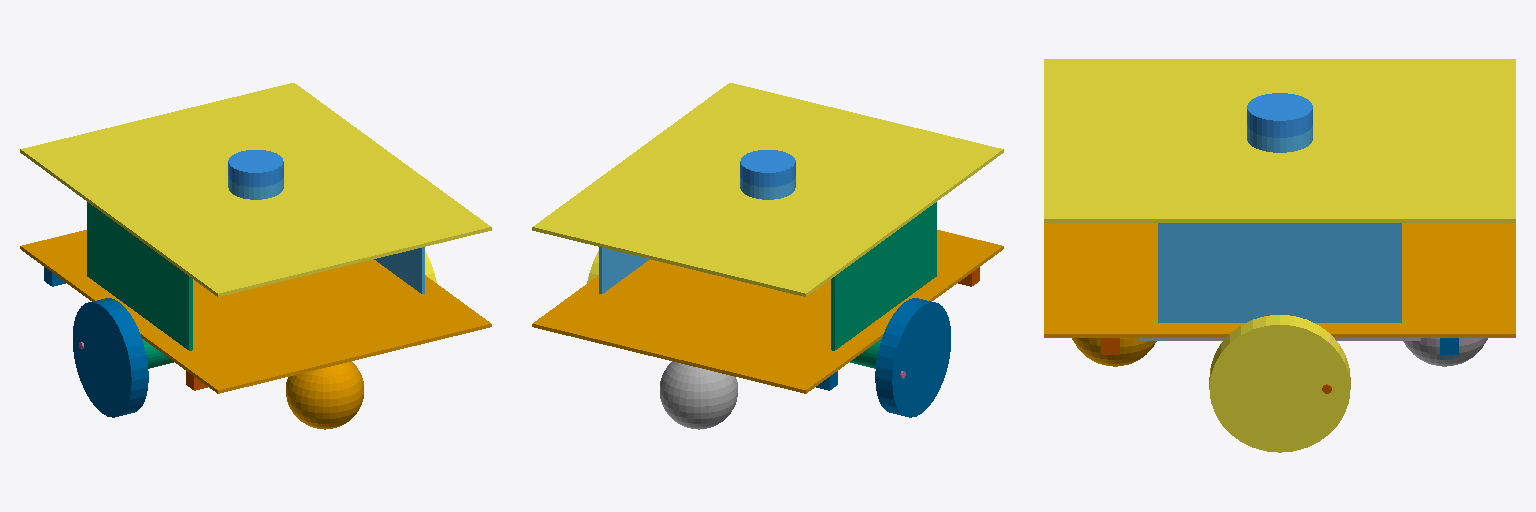
The robot description file, URDF, robot "blind":
<?xml version="1.0"?>
<robot name="blind">

    <link name="base_link">
        <visual>
            <origin xyz="0 0 0" rpy="0 0 0"/>
            <geometry>
                <!--<mesh filename="package://blind_test/model/meshes/plate.STL"/>-->
                <box size="0.4 0.5 0.005"/>
            </geometry>
        </visual>

        <collision>
            <geometry>
                <box size="0.4 0.5 0.005"/>
            </geometry>
        </collision>

    </link>

    <link name="1_side_link">
        <visual>
            <origin xyz="0 0 0" rpy="0 0 0"/>
            <geometry>
                <box size="0.13 0.26 0.005"/>
            </geometry>
        </visual>

        <collision>
            <geometry>
                <box size="0.13 0.26 0.005"/>
            </geometry>
        </collision>

        <inertial>
            <mass value="0.1"/>
            <inertia ixx="0.000704166" ixy="0.0" ixz="0.0" iyy="0.000141041" iyz="0" izz="0.00056354167"/>
        </inertial>

    </link>

    <joint name="1_side_joint" type="fixed">
        <origin xyz="0.17 0 0.0675" rpy="0 1.5708 0"/>
        <parent link="base_link"/>
        <child link="1_side_link"/>
    </joint>

    <link name="2_side_link">
        <visual>
            <origin xyz="0 0 0" rpy="0 0 0"/>
            <geometry>
                <!--<mesh filemname="package://blind_test/mode/meshes/plate_side.STL"/>-->
                <box size="0.13 0.26 0.005"/>
            </geometry>
        </visual>

        <collision>
            <geometry>
                <!--<mesh filemname="package://blind_test/mode/meshes/plate_side.STL"/>-->
                <box size="0.13 0.26 0.005"/>
            </geometry>
        </collision>

        <inertial>
            <mass value="0.1"/>
            <inertia ixx="0.000704166" ixy="0.0" ixz="0.0" iyy="0.000141041" iyz="0" izz="0.00056354167"/>
        </inertial>

    </link>

    <joint name="2_side_joint" type="fixed">
        <origin xyz="-0.17 0 0.0675" rpy="0 1.5708 0"/>
        <parent link="base_link"/>
        <child link="2_side_link"/>
    </joint>


    <link name="top_link">
        <visual>
            <origin xyz="0 0 0" rpy="0 0 0"/>
            <geometry>
                <box size="0.4 0.5 0.005"/>
            </geometry>
        </visual>

        <collision>
            <geometry>
                <box size="0.4 0.5 0.005"/>
            </geometry>
        </collision>

        <inertial>
            <mass value="0.4"/>
            <inertia ixx="0.013666667" ixy="0.0" ixz="0.0" iyy="0.05334166" iyz="0" izz="0.08334167"/>
        </inertial>

    </link>

    <joint name="top_joint" type="fixed">
        <origin xyz="0 0 0.135" rpy="0 0 0"/>
        <parent link="base_link"/>
        <child link="top_link"/>
    </joint>

    <link name="1_alu_40_link">
        <visual>
            <origin xyz="0 0 0" rpy="0 0 0"/>
            <geometry>
                <box size="0.4 0.02 0.02"/>
            </geometry>
        </visual>

        <collision>
            <geometry>
                <box size="0.4 0.02 0.02"/>
            </geometry>
        </collision>
        
        <inertial>
            <mass value="0.4"/>
            <inertia ixx="0.000031669" ixy="0.0" ixz="0.0" iyy="0.005349168" iyz="0" izz="0.005349168"/>
        </inertial>

    </link>

    <joint name="1_alu_40_joint" type="fixed">
        <origin xyz="0 0.18 -0.0125" rpy="0 0 0"/>
        <parent link="base_link"/>
        <child link="1_alu_40_link"/>
    </joint>

    <link name="2_alu_40_link">
        <visual>
            <origin xyz="0 0 0" rpy="0 0 0"/>
            <geometry>
                <box size="0.4 0.02 0.02"/>
            </geometry>
        </visual>

        <collision>
            <geometry>
                <box size="0.4 0.02 0.02"/>
            </geometry>
        </collision>

        <inertial>
            <mass value="0.4"/>
            <inertia ixx="0.000031669" ixy="0.0" ixz="0.0" iyy="0.005349168" iyz="0" izz="0.005349168"/>
        </inertial>

    </link>

    <joint name="2_alu_40_joint" type="fixed">
        <origin xyz="0 -0.18 -0.0125" rpy="0 0 0"/>
        <parent link="base_link"/>
        <child link="2_alu_40_link"/>
    </joint>

    <link name="alu_30_link">
        <visual>
            <origin xyz="0 0 0" rpy="0 0 0"/>
            <geometry>
                <box size="0.3 0.02 0.02"/>
            </geometry>
        </visual>

        <collision>
            <geometry>
                <box size="0.3 0.02 0.02"/>
            </geometry>
        </collision>

        <inertial>
            <mass value="0.28"/>
            <inertia ixx="0.0000022168" ixy="0.0" ixz="0.0" iyy="0.002111084" iyz="0" izz="0.002111084"/>
        </inertial>

    </link>

    <joint name="alu_30_joint" type="fixed">
        <origin xyz="0 0 -0.0125" rpy="0 0 0"/>
        <parent link="base_link"/>
        <child link="alu_30_link"/>
    </joint>

    <link name="1_alu_32_link">
        <visual>
            <origin xyz="0 0 0" rpy="0 0 0"/>
            <geometry>
                <box size="0.3 0.02 0.02"/>
            </geometry>
        </visual>

        <collision>
            <geometry>
                <box size="0.3 0.02 0.02"/>
            </geometry>
        </collision>

        <inertial>
            <mass value="0.3"/>
            <inertia ixx="0.000023752" ixy="0.0" ixz="0.0" iyy="0.002571876" iyz="0" izz="0.002571876"/>
        </inertial>

    </link>

    <joint name="1_alu_32_joint" type="fixed">
        <origin xyz="0.155 0 -0.0125" rpy="0 0 1.5708"/>
        <parent link="base_link"/>
        <child link="1_alu_32_link"/>
    </joint>

    <link name="2_alu_32_link">
        <visual>
            <origin xyz="0 0 0" rpy="0 0 0"/>
            <geometry>
                <box size="0.3 0.02 0.02"/>
            </geometry>
        </visual>

        <collision>
            <geometry>
                <box size="0.3 0.02 0.02"/>
            </geometry>
        </collision>

        <inertial>
            <mass value="0.3"/>
            <inertia ixx="0.000023752" ixy="0.0" ixz="0.0" iyy="0.002571876" iyz="0" izz="0.002571876"/>
        </inertial>

    </link>

    <joint name="2_alu_32_joint" type="fixed">
        <origin xyz="-0.155 0 -0.0125" rpy="0 0 1.5708"/>
        <parent link="base_link"/>
        <child link="2_alu_32_link"/>
    </joint>

    <link name="1_motor_link">
        <visual>
            <origin xyz="0 0 0" rpy="0 0 0"/>
            <geometry>
                <cylinder radius="0.025" length="0.13"/>
            </geometry>
        </visual>

        <collision>
            <geometry>
                <cylinder radius="0.025" length="0.13"/>
            </geometry>
        </collision>

        <inertial>
            <mass value="0.3"/>
            <inertia ixx="0.000144192" ixy="0.0" ixz="0.0" iyy="0.000972109" iyz="0" izz="0.000972109"/>
        </inertial>

    </link>

    <joint name="1_motor_joint" type="fixed">
        <origin xyz="0.125 0 -0.0375" rpy="0 1.5708 0"/>
        <parent link="alu_30_link"/>
        <child link="1_motor_link"/>
    </joint>

    <link name="2_motor_link">
        <visual>
            <origin xyz="0 0 0" rpy="0 0 0"/>
            <geometry>
                <!--<mesh filename="package://blind_test/mode/meshes/motor.STL"/>-->
                <cylinder radius="0.025" length="0.13"/>
            </geometry>
        </visual>

        <collision>
            <geometry>
                <!--<mesh filename="package://blind_test/mode/meshes/motor.STL"/>-->
                <cylinder radius="0.025" length="0.13"/>
            </geometry>
        </collision>

        <inertial>
            <mass value="0.3"/>
            <inertia ixx="0.000144192" ixy="0.0" ixz="0.0" iyy="0.000972109" iyz="0" izz="0.000972109"/>
        </inertial>

    </link>

    <joint name="2_motor_joint" type="fixed">
        <origin xyz="-0.125 0 -0.0375" rpy="0 1.5708 0"/>
        <parent link="alu_30_link"/>
        <child link="2_motor_link"/>
    </joint>

    <link name="1_wheel_link">
        <visual>
            <origin xyz="0 0 0" rpy="0 0 0"/>
            <geometry>
                <!--<mesh filename="package://blind_test/mode/meshes/motor.STL"/>-->
                <cylinder radius="0.075" length="0.025"/>
            </geometry>
        </visual>

        <collision>
            <geometry>
                <!--<mesh filename="package://blind_test/mode/meshes/motor.STL"/>-->
                <cylinder radius="0.075" length="0.025"/>
            </geometry>
        </collision>

        <inertial>
            <mass value="0.05"/>
            <inertia ixx="0.000062765" ixy="-2.97" ixz="0.0" iyy="0.000119581" iyz="-2.97" izz="0.000062765"/>
        </inertial>

    </link>

    <joint name="1_wheel_joint" type="continuous">
        <origin xyz="0.2125 0 -0.05" rpy="0 1.5708 0"/>
        <parent link="base_link"/>
        <child link="1_wheel_link"/>
        <axis xyz="0 0 1" rpy="0 0 0"/>
        <limit effort="0.2" velocity="0.05"/>
    </joint>

    <link name="2_wheel_link">
        <visual>
            <origin xyz="0 0 0" rpy="0 0 0"/>
            <geometry>
                <cylinder radius="0.075" length="0.025"/>
            </geometry>
        </visual>

        <collision>
            <geometry>
                <cylinder radius="0.075" length="0.025"/>
            </geometry>
        </collision>

        <inertial>
            <mass value="0.05"/>
            <inertia ixx="0.000062765" ixy="-2.97" ixz="0.0" iyy="0.000119581" iyz="-2.97" izz="0.000062765"/>
        </inertial>

    </link>

    <joint name="2_wheel_joint" type="continuous">
        <origin xyz="-0.2125 0 -0.05" rpy="0 1.5708 0"/>
        <parent link="base_link"/>
        <child link="2_wheel_link"/>
        <axis xyz="0 0 1" rpy="0 0 0"/>
        <limit effort="0.2" velocity="0.05"/>
    </joint>

    <link name="bra1_link">
        <visual>
            <origin xyz="0 0 0" rpy="0 0 0"/>
            <geometry>
                <cylinder radius="0.005" length="0.03"/>
            </geometry>
        </visual>
    </link>

    <joint name="bra1_joint" type="fixed">>
        <origin xyz="0 0.05 0" rpy="0 0 0"/>
        <parent link="1_wheel_link"/>
        <child link="bra1_link"/>
    </joint>

    <link name="bra2_link">
        <visual>
            <origin xyz="0 0 0" rpy="0 0 0"/>
            <geometry>
                <cylinder radius="0.005" length="0.03"/>
            </geometry>
        </visual>
    </link>

    <joint name="bra2_joint" type="fixed">>
        <origin xyz="0 0.05 0" rpy="0 0 0"/>
        <parent link="2_wheel_link"/>
        <child link="bra2_link"/>
    </joint>

    <link name="1_ball_link">
        <visual>
            <origin xyz="0 0 0" rpy="0 0 0"/>
            <geometry>
                <sphere radius="0.05"/>
            </geometry>
        </visual>

        <collision>
            <geometry>
                <sphere radius="0.05"/>
            </geometry>
        </collision>

    </link>

    <joint name="1_ball_joint" type="fixed">
        <origin xyz="0 0.175 -0.074" rpy="0 0 0"/>
        <parent link="base_link"/>
        <child link="1_ball_link"/>
    </joint>

    <link name="2_ball_link">
        <visual>
            <origin xyz="0 0 0" rpy="0 0 0"/>
            <geometry>
                <sphere radius="0.05"/>
            </geometry>
        </visual>

        <collision>
            <geometry>
                <sphere radius="0.05"/>
            </geometry>
        </collision>

    </link>

    <joint name="2_ball_joint" type="fixed">
        <origin xyz="0 -0.175 -0.074" rpy="0 0 0"/>
        <parent link="base_link"/>
        <child link="2_ball_link"/>
    </joint>

    <link name = "lidarbase_link">
        <visual>
            <origin xyz = "0 0 0" rpy = "0 0 0"/>
            <geometry>
                <cylinder radius = "0.035" length = "0.02"/>
            </geometry>
            <material name="grey">
        
            </material>
        </visual>

        <inertial>
            <mass value="0.1"/>
            <inertia ixx="0.000114" ixy="0.0" ixz="0.0" iyy="0.000114" iyz="0" izz="0.000145"/>
        </inertial>


        <collision>
            <origin xyz = "0 0 0" rpy = "0 0 0"/>
            <geometry>
                <cylinder radius = "0.035" length = "0.02"/>
            </geometry>
        </collision>
    </link>

    <joint name = "lidarbase_joint" type = "fixed">
        <origin xyz = "0 0 0.145" rpy = "0 0 0"/> 
        <parent link = "base_link"/>
        <child link = "lidarbase_link"/>
        <limit effort = "0" velocity="0"/>
        <axis rpy="0 0 0" xyz = "0 0 0"/>
    </joint>

    <link name = "lidar_link">
        <visual>
            <origin xyz = "0 0 0" rpy = "0 0 0"/>
            <geometry>
                <cylinder radius = "0.035" length = "0.02"/>
            </geometry>
            <material name = "blue2">
                <color rgba = "0.239 0.604 0.917 1"/>
            </material>
        </visual>

        <inertial>
            <mass value="0.1"/>
            <inertia ixx="0.000045" ixy="0.0" ixz="0.0" iyy="0.000045" iyz="0" izz="0.000078"/>
        </inertial>

        <collision>
            <origin xyz = "0 0 0" rpy = "0 0 0"/>
            <geometry>
                <cylinder radius = "0.035" length = "0.02"/>
            </geometry>
        </collision>
    </link>

    <joint name = "lidar_joint" type = "continuous">
        <origin xyz = "0 0 0.02" rpy = "0 0 0"/> 
        <parent link = "lidarbase_link"/>
        <child link = "lidar_link"/>
        <axis rpy="0 0 0" xyz = "0 0 1"/>
    </joint>

<!--*************************************** Gazebo **********************************************-->

    <gazebo reference="1_wheel_link">  
        <material>Gazebo/Grey</material>

        <mu1 value ="0.2"/>
        <mu2 value = "0.1"/>

        <kp value = "80000" />
        <kd value = "50"/>
    </gazebo>

    <gazebo reference="2_wheel_link">  
        <material>Gazebo/Grey</material>
        
        <mu1 value ="0.2"/>
        <mu2 value = "0.1"/>

        <kp value = "80000" />
        <kd value = "50"/>
    </gazebo>

    <gazebo reference="1_ball_link">
        <material>Gazebo/Blue</material>

        <mu1 value="0"/>
        <mu2 value="0"/>

        <kp value = "600" />
        <kd value = "550"/>
    </gazebo>

    <gazebo reference="2_ball_link">
        <material>Gazebo/Blue</material>

        <mu1 value="0"/>
        <mu2 value="0"/>

        <kp value="600"/>
        <kd value="550"/>
    </gazebo>

    <gazebo>
    <plugin filename="libgazebo_ros_diff_drive.so" name="differential_drive_controller">
        <alwaysOn>true</alwaysOn>
        <updateRate>20</updateRate>
        <leftJoint>1_wheel_joint</leftJoint>
        <rightJoint>2_wheel_joint</rightJoint>
        <wheelSeparation>0.9</wheelSeparation>
        <wheelDiameter>0.3</wheelDiameter>
        <torque>10</torque>
        <commandTopic>cmd_vel</commandTopic>
        <odometryTopic>odom</odometryTopic>
        <odometryFrame>odom</odometryFrame>
        <robotBaseFrame>base_link</robotBaseFrame>
    </plugin>
    </gazebo>

    <gazebo>
    <plugin name="gazebo_ros_control" filename="libgazebo_ros_control.so">
        <robotNamespace>/blind</robotNamespace>
    </plugin>
    </gazebo>

        <!-- Camera Sensor-->
<!--     <gazebo reference="camera_link">
        <sensor type="camera" name="blind_camera">
            <update_rate>15.0</update_rate>
            <camera name="head">
            <origin rpy="0 0 0" xyz="0 0 0"/>
            <horizontal_fov>0.25</horizontal_fov>
            <image>
                <width>800</width>
                <height>800</height>
                <format>R8G8B8</format>
            </image>
            <clip>
                <near>0.01</near>
                <far>100</far>
            </clip>
            <noise>
                <type>gaussian</type>
                <stddev>0.007</stddev>
            </noise>
            </camera>
            <plugin name="camera_controller" filename="libgazebo_ros_camera.so">
                <alwaysOn>true</alwaysOn>
                <updateRate>0.0</updateRate>
                <cameraName>moby/camera</cameraName>
                <imageTopicName>image_raw</imageTopicName>
                <cameraInfoTopicName>camera_info</cameraInfoTopicName>
                <frameName>camera_link</frameName>
                <hackBaseline>0.07</hackBaseline>
                <distortionK1>1.0</distortionK1>
                <distortionK2>0.0</distortionK2>
                <distortionK3>0.0</distortionK3>
                <distortionT1>0.0</distortionT1>
                <distortionT2>0.0</distortionT2>
            </plugin>
        </sensor>
    </gazebo>-->

    <!--lidar sensor-->
    <gazebo reference="lidar_link">
        <sensor type="ray" name="blind_laser_sensor">
        <pose>0 0 0 0 0 0</pose>
        <visualize>true</visualize>
        <update_rate>20</update_rate>
        <ray>
         <scan>
            <horizontal>
                <samples>720</samples>
                <resolution>1</resolution>
                <min_angle>-3.14</min_angle>
                <max_angle>3.14</max_angle>
            </horizontal>
        </scan>
        <range>
             <min>0.35</min>
             <max>10.0</max>
             <resolution>0.01</resolution>
        </range>
        <noise>
              <type>gaussian</type>
              <mean>0.0</mean>
              <stddev>0.01</stddev>
        </noise>
        </ray>
        <plugin name="gazebo_ros_head_hokuyo_controller" filename="libgazebo_ros_laser.so">
        <topicName>/blind/laser/scan</topicName>
        <frameName>lidar_link</frameName>
      </plugin>
    </sensor>
  </gazebo>

    <!--transmission-->
    <transmission name="1_wheel_transmission">
        <type>transmission_interface/SimpleTransmission</type>
        <joint name="1_wheel_joint">
            <hardwareInterface>hardware_interface/EffortJointInterface</hardwareInterface>
        </joint>
        <actuator name="motor">
            <hardwareInterface>EfoortJointInterface</hardwareInterface>
            <mechanicalReduction>1</mechanicalReduction>
        </actuator>
    </transmission>

    <transmission name="2_wheel_transmission">
        <type>transmission_interface/SimpleTransmission</type>
        <joint name="2_wheel_joint">
            <hardwareInterface>hardware_interface/EffortJointInterface</hardwareInterface>
        </joint>
        <actuator name="motor">
            <hardwareInterface>EffortJointInterface</hardwareInterface>
            <mechanicalReduction>1</mechanicalReduction>
        </actuator>
    </transmission>


</robot>

--- What the picture shows (computed from the rendered views, not written in the file) ---
3 views of the same robot in one strip: view 1: azimuth 30°, elevation 25°; view 2: azimuth 150°, elevation 25°; view 3: azimuth 270°, elevation 25° (orthographic).
Robot: blind — 19 links, 18 joints (3 continuous, 15 fixed); root link base_link; default pose: every joint at zero.
Visible links, largest first — view 1: top_link, base_link, 2_side_link, 2_wheel_link, 2_ball_link, lidar_link, 1_side_link, lidarbase_link; view 2: top_link, base_link, 2_side_link, 2_wheel_link, 1_ball_link, lidar_link, 1_side_link, lidarbase_link; view 3: top_link, base_link, 1_side_link, 1_wheel_link, lidar_link, 1_ball_link, 2_ball_link, lidarbase_link.
Boxes of the visible links, x1,y1,x2,y2 form: top_link: (20,83,491,296); base_link: (20,230,491,393); 2_side_link: (87,202,192,350); 2_wheel_link: (73,298,148,417); 2_ball_link: (286,361,363,429); lidar_link: (228,150,283,186); 1_side_link: (374,247,424,293); lidarbase_link: (228,176,283,199); top_link: (532,83,1003,296); base_link: (532,230,1003,393); 2_side_link: (831,202,936,350); 2_wheel_link: (875,298,950,417); 1_ball_link: (660,361,737,429); lidar_link: (740,150,795,186); 1_side_link: (599,247,649,293); lidarbase_link: (740,176,795,199); top_link: (1044,59,1515,222); base_link: (1044,223,1515,337); 1_side_link: (1158,223,1401,322); 1_wheel_link: (1209,315,1350,452); lidar_link: (1247,93,1312,137); 1_ball_link: (1403,338,1487,366); 2_ball_link: (1072,338,1156,366); lidarbase_link: (1247,126,1312,152).
Size in the robot's own frame: 0.455 by 0.5 by 0.3 metres.
Geometry: primitives only (box / cylinder / sphere), no mesh files.
